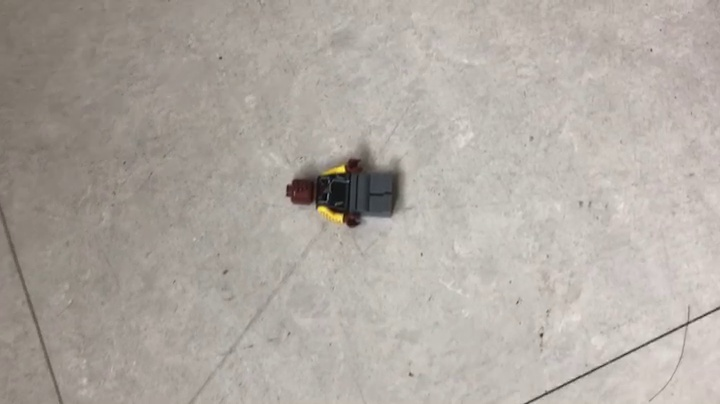people: (284, 156, 404, 228)
